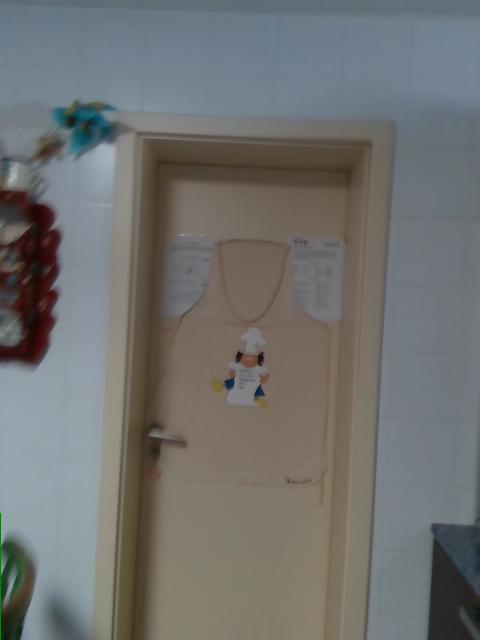door: (139, 161, 349, 639)
